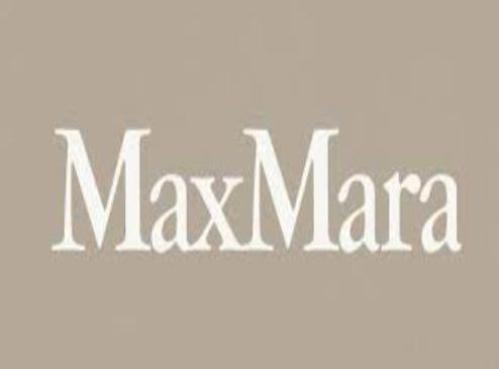MAX-MARA: (51, 123, 462, 254)
